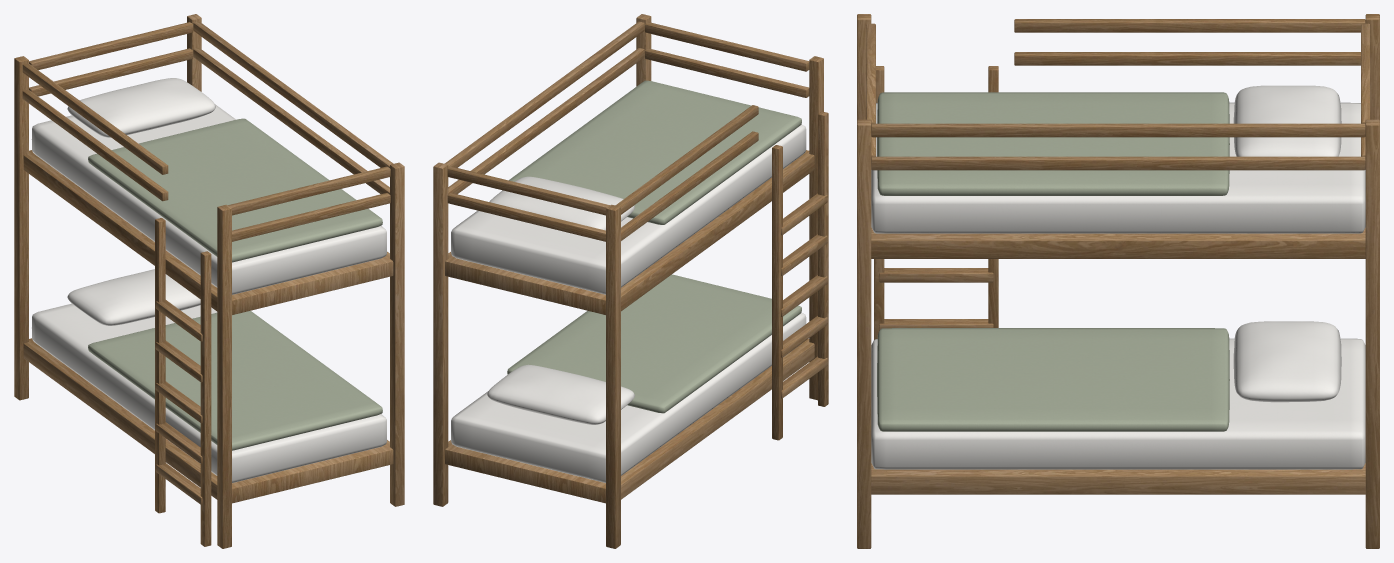
Rendered from litera_madera_90_izquierda.glb.
3 renders of one model, left to right at view 1: azimuth 30°, elevation 25°; view 2: azimuth 150°, elevation 25°; view 3: azimuth 270°, elevation 25°, orthographic. The views are drawn at different scales.
Visible parts, largest first — view 1: litera_madera_90_izquierda; view 2: litera_madera_90_izquierda; view 3: litera_madera_90_izquierda.
Part boxes in pixels (x1,y1,x2,y2): litera_madera_90_izquierda: (14, 14, 404, 548); litera_madera_90_izquierda: (433, 14, 828, 548); litera_madera_90_izquierda: (857, 14, 1379, 548).
Size of the model in its own units: 1.09 by 1.8 by 2.01.
3 materials, 3 textured.
